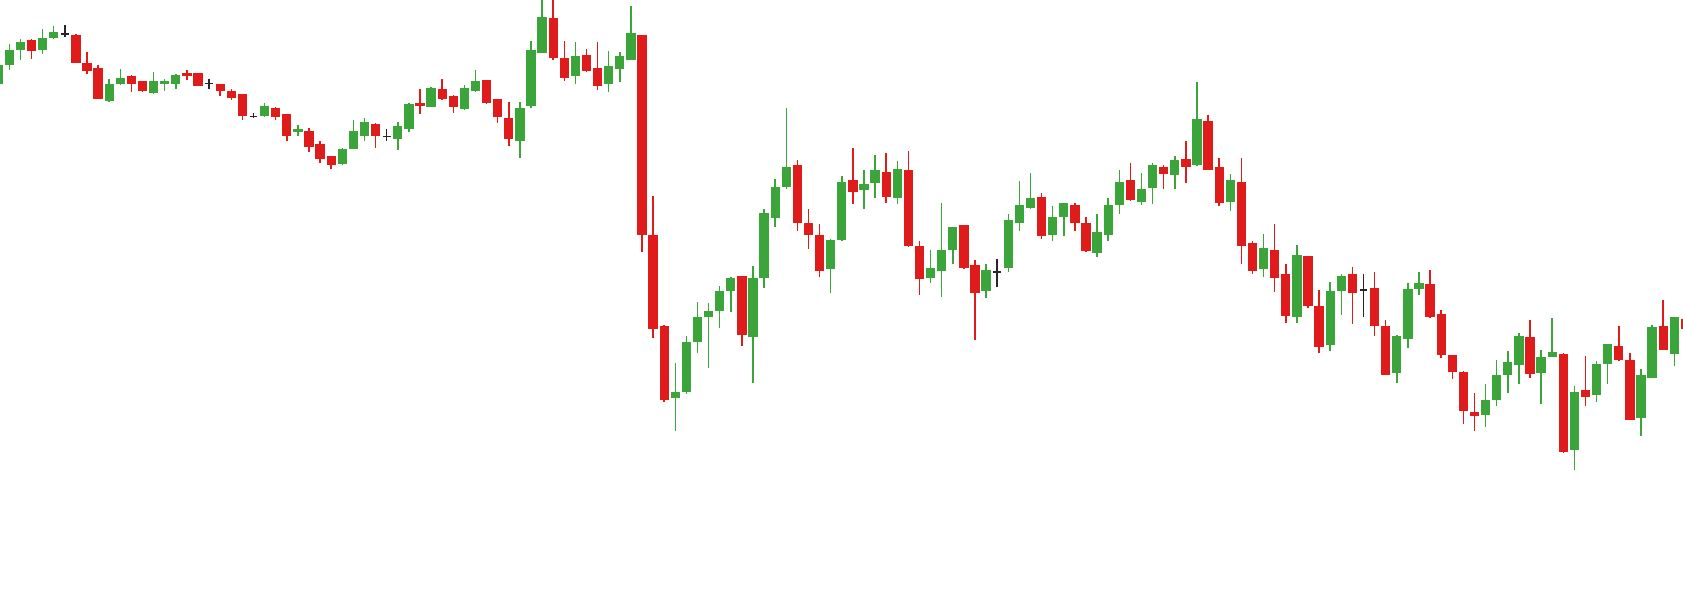buy: (1470, 376, 1582, 477), (913, 242, 993, 345)
